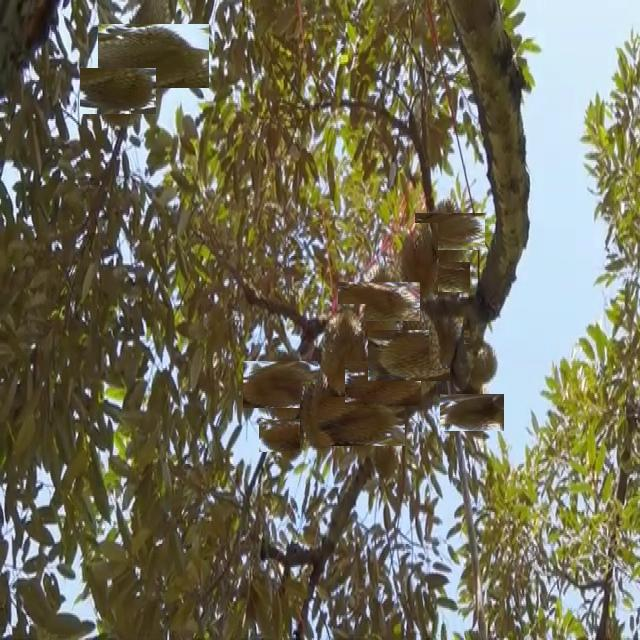durian: (110, 12, 198, 100), (380, 317, 457, 394), (327, 387, 396, 456), (319, 304, 366, 396), (348, 270, 410, 332), (249, 354, 311, 415), (87, 61, 149, 122), (353, 353, 414, 414), (300, 382, 342, 457), (398, 223, 438, 300), (423, 204, 477, 258), (447, 387, 498, 438), (429, 300, 464, 368), (265, 412, 311, 458), (450, 344, 500, 384), (371, 421, 401, 479), (427, 257, 466, 296)
